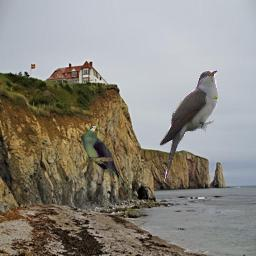Cuckoo: (159, 70, 218, 184), (81, 125, 136, 196)
